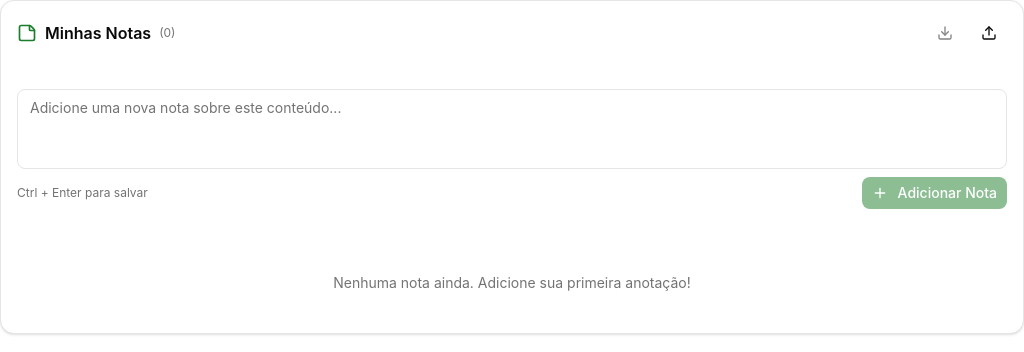
Scenario: NotesPanel › enables add button when text is entered
Type "My test note" into the text box with placeholder "Adicione uma nova nota sobre este conteúdo..." at (512, 129), box [17,89,1007,169]
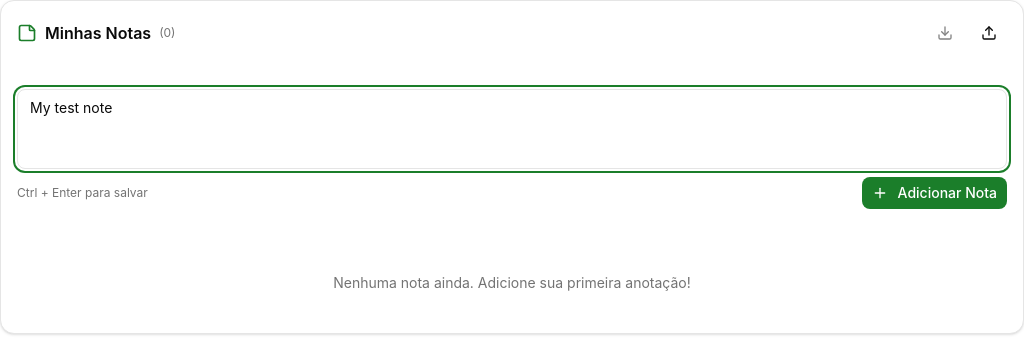
Check: the button "Adicionar Nota" is enabled, box [862,177,1007,209]
